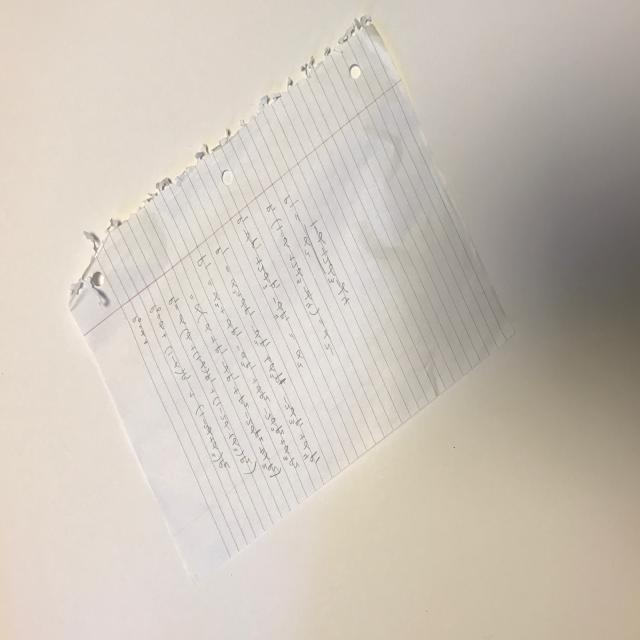paper: (40, 11, 531, 603)
